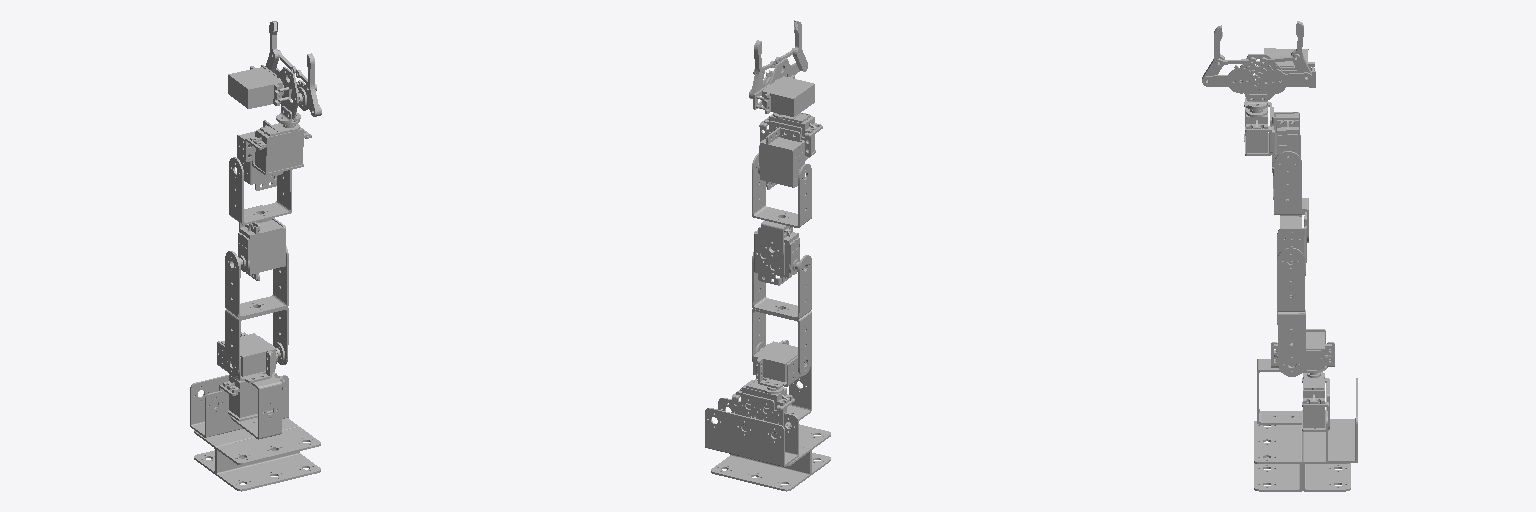
URDF robot description (robotic_arm):
<?xml version="1.0" encoding="utf-8"?>
<!-- This URDF was automatically created by SolidWorks to URDF Exporter! Originally created by [author] ([email redacted]) 
     Commit Version: 1.6.0-4-g7f85cfe  Build Version: 1.6.7995.38578
     For more information, please see http://wiki.ros.org/sw_urdf_exporter -->
<robot
  name="robotic_arm">
  <link
    name="base_link">
    <inertial>
      <origin
        xyz="0.690918199012026 0.905986463170299 1.31818064426375"
        rpy="0 0 0" />
      <mass
        value="0.0953444546366154" />
      <inertia
        ixx="2.6536038073633E-05"
        ixy="1.32399943739737E-07"
        ixz="-1.95760719485948E-08"
        iyy="5.70826120419313E-05"
        iyz="1.60400346152967E-07"
        izz="5.93899507525617E-05" />
    </inertial>
    <visual>
      <origin
        xyz="0 0 0"
        rpy="0 0 0" />
      <geometry>
        <mesh
          filename="package://robotic_arm/meshes/base_link.STL" />
      </geometry>
      <material
        name="">
        <color
          rgba="0.752941176470588 0.752941176470588 0.752941176470588 1" />
      </material>
    </visual>
    <collision>
      <origin
        xyz="0 0 0"
        rpy="0 0 0" />
      <geometry>
        <mesh
          filename="package://robotic_arm/meshes/base_link.STL" />
      </geometry>
    </collision>
  </link>
  <link
    name="link_1">
    <inertial>
      <origin
        xyz="-0.00834673768467264 0.0592848892675473 -0.0104318358334772"
        rpy="0 0 0" />
      <mass
        value="0.0465317343320066" />
      <inertia
        ixx="1.28967179945359E-05"
        ixy="-1.1547621249523E-07"
        ixz="-2.00612048044345E-06"
        iyy="1.41046479661861E-05"
        iyz="1.10209138101129E-07"
        izz="1.28042688802891E-05" />
    </inertial>
    <visual>
      <origin
        xyz="0 0 0"
        rpy="0 0 0" />
      <geometry>
        <mesh
          filename="package://robotic_arm/meshes/link_1.STL" />
      </geometry>
      <material
        name="">
        <color
          rgba="0.752941176470588 0.752941176470588 0.752941176470588 1" />
      </material>
    </visual>
    <collision>
      <origin
        xyz="0 0 0"
        rpy="0 0 0" />
      <geometry>
        <mesh
          filename="package://robotic_arm/meshes/link_1.STL" />
      </geometry>
    </collision>
  </link>
  <joint
    name="joint_1"
    type="continuous">
    <origin
      xyz="0.681512899942898 -1.31957371207269 0.9106277233023"
      rpy="1.57079632679489 0 2.38986902292884" />
    <parent
      link="base_link" />
    <child
      link="link_1" />
    <axis
      xyz="0 1 0" />
  </joint>
  <link
    name="link_2">
    <inertial>
      <origin
        xyz="-0.00411555735884339 -0.049078206685365 0.0151869177878514"
        rpy="0 0 0" />
      <mass
        value="0.0196331437668373" />
      <inertia
        ixx="8.60828290164031E-06"
        ixy="-6.25849778546438E-07"
        ixz="-2.65465712344999E-06"
        iyy="1.03763652187751E-05"
        iyz="1.48452113083845E-06"
        izz="1.38316237542642E-05" />
    </inertial>
    <visual>
      <origin
        xyz="0 0 0"
        rpy="0 0 0" />
      <geometry>
        <mesh
          filename="package://robotic_arm/meshes/link_2.STL" />
      </geometry>
      <material
        name="">
        <color
          rgba="0.752941176470588 0.752941176470588 0.752941176470588 1" />
      </material>
    </visual>
    <collision>
      <origin
        xyz="0 0 0"
        rpy="0 0 0" />
      <geometry>
        <mesh
          filename="package://robotic_arm/meshes/link_2.STL" />
      </geometry>
    </collision>
  </link>
  <joint
    name="joint_2"
    type="continuous">
    <origin
      xyz="-0.0138083245935132 0.0680000000000357 -0.0144682470230319"
      rpy="0.244836805062138 -0.375384253365743 -3.01423665910926" />
    <parent
      link="link_1" />
    <child
      link="link_2" />
    <axis
      xyz="0.920715361532491 0.00279090919548123 0.390224850392638" />
  </joint>
  <link
    name="link_3">
    <inertial>
      <origin
        xyz="-0.0044466549163481 0.0223202695435483 -0.0051826332775049"
        rpy="0 0 0" />
      <mass
        value="0.0527193093583245" />
      <inertia
        ixx="1.35233138780833E-05"
        ixy="-6.51337467091475E-07"
        ixz="-2.45290637988036E-06"
        iyy="1.23208076940951E-05"
        iyz="1.80348552434389E-06"
        izz="1.78382592044603E-05" />
    </inertial>
    <visual>
      <origin
        xyz="0 0 0"
        rpy="0 0 0" />
      <geometry>
        <mesh
          filename="package://robotic_arm/meshes/link_3.STL" />
      </geometry>
      <material
        name="">
        <color
          rgba="0.752941176470588 0.752941176470588 0.752941176470588 1" />
      </material>
    </visual>
    <collision>
      <origin
        xyz="0 0 0"
        rpy="0 0 0" />
      <geometry>
        <mesh
          filename="package://robotic_arm/meshes/link_3.STL" />
      </geometry>
    </collision>
  </link>
  <joint
    name="joint_3"
    type="continuous">
    <origin
      xyz="-0.0119074417180245 -0.0981728744550843 0.0287975674968496"
      rpy="0.666909771133124 0.72745528612343 -2.87911848216658" />
    <parent
      link="link_2" />
    <child
      link="link_3" />
    <axis
      xyz="0.920648187108123 0.00215985289631251 0.39038730846429" />
  </joint>
  <link
    name="link_4">
    <inertial>
      <origin
        xyz="0.0006796801836913 0.0122665484090065 0.0211158228951782"
        rpy="0 0 0" />
      <mass
        value="0.0734303248905977" />
      <inertia
        ixx="1.38233645920986E-05"
        ixy="8.61051492964438E-07"
        ixz="-2.17371806113922E-06"
        iyy="1.3932561843694E-05"
        iyz="-2.30776403602052E-06"
        izz="1.9039071365358E-05" />
    </inertial>
    <visual>
      <origin
        xyz="0 0 0"
        rpy="0 0 0" />
      <geometry>
        <mesh
          filename="package://robotic_arm/meshes/link_4.STL" />
      </geometry>
      <material
        name="">
        <color
          rgba="0.752941176470588 0.752941176470588 0.752941176470588 1" />
      </material>
    </visual>
    <collision>
      <origin
        xyz="0 0 0"
        rpy="0 0 0" />
      <geometry>
        <mesh
          filename="package://robotic_arm/meshes/link_4.STL" />
      </geometry>
    </collision>
  </link>
  <joint
    name="joint_4"
    type="continuous">
    <origin
      xyz="0.00878557193452059 0.0942863948809806 -0.0213160274783319"
      rpy="2.98177224561093 0.0793264831605607 -3.13671933164858" />
    <parent
      link="link_3" />
    <child
      link="link_4" />
    <axis
      xyz="0.951231015101866 -0.0451134015264731 0.305162803944034" />
  </joint>
  <link
    name="end_effector">
    <inertial>
      <origin
        xyz="0.00177854814604139 0.0234331501592275 0.0505371369748944"
        rpy="0 0 0" />
      <mass
        value="0.0505964546832365" />
      <inertia
        ixx="9.05047696167065E-06"
        ixy="-5.23352350323484E-07"
        ixz="4.15252288647753E-07"
        iyy="8.61341699943017E-06"
        iyz="1.67063430643563E-06"
        izz="8.59379706262438E-06" />
    </inertial>
    <visual>
      <origin
        xyz="0 0 0"
        rpy="0 0 0" />
      <geometry>
        <mesh
          filename="package://robotic_arm/meshes/end_effector.STL" />
      </geometry>
      <material
        name="">
        <color
          rgba="0.752941176470588 0.752941176470588 0.752941176470588 1" />
      </material>
    </visual>
    <collision>
      <origin
        xyz="0 0 0"
        rpy="0 0 0" />
      <geometry>
        <mesh
          filename="package://robotic_arm/meshes/end_effector.STL" />
      </geometry>
    </collision>
  </link>
  <joint
    name="end_effector_joint"
    type="continuous">
    <origin
      xyz="0.00668895775777986 0.015904071986752 0.0405109050654748"
      rpy="2.00026591436005 0.0503809083594157 -3.01899503858886" />
    <parent
      link="link_4" />
    <child
      link="end_effector" />
    <axis
      xyz="0.0765333432788003 -0.713482347733641 -0.696480858917932" />
  </joint>
</robot>

--- Facts derived from the render (not from the file) ---
Views: 3 orthographic renders of the robot side by side, from view 1: azimuth 30°, elevation 25°; view 2: azimuth 150°, elevation 25°; view 3: azimuth 270°, elevation 25°.
Robot: robotic_arm — 6 links, 5 joints (5 continuous); root link base_link; default pose: every joint at zero.
Visible links, largest first — view 1: base_link, link_3, end_effector, link_2, link_1, link_4; view 2: base_link, link_3, link_4, end_effector, link_2, link_1; view 3: base_link, end_effector, link_2, link_3, link_4, link_1.
Boxes of the visible links, x1=… form: base_link: x1=190, y1=369, x2=320, y2=491; link_3: x1=229, y1=157, x2=291, y2=280; end_effector: x1=228, y1=21, x2=321, y2=125; link_2: x1=225, y1=246, x2=288, y2=376; link_1: x1=217, y1=332, x2=281, y2=439; link_4: x1=237, y1=119, x2=311, y2=190; base_link: x1=705, y1=379, x2=830, y2=491; link_3: x1=752, y1=153, x2=811, y2=285; link_4: x1=758, y1=112, x2=822, y2=189; end_effector: x1=749, y1=20, x2=814, y2=116; link_2: x1=752, y1=252, x2=811, y2=375; link_1: x1=753, y1=340, x2=811, y2=427; base_link: x1=1254, y1=372, x2=1357, y2=491; end_effector: x1=1202, y1=21, x2=1315, y2=110; link_2: x1=1277, y1=230, x2=1305, y2=376; link_3: x1=1273, y1=135, x2=1308, y2=275; link_4: x1=1244, y1=98, x2=1299, y2=175; link_1: x1=1257, y1=329, x2=1334, y2=424.
Size in the robot's own frame: 0.0913 by 0.1406 by 0.454 metres.
6 mesh visuals loaded from 6 distinct referenced files (6 binary STL).